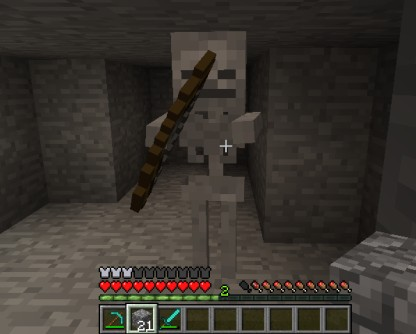skeleton: (150, 25, 271, 144)
